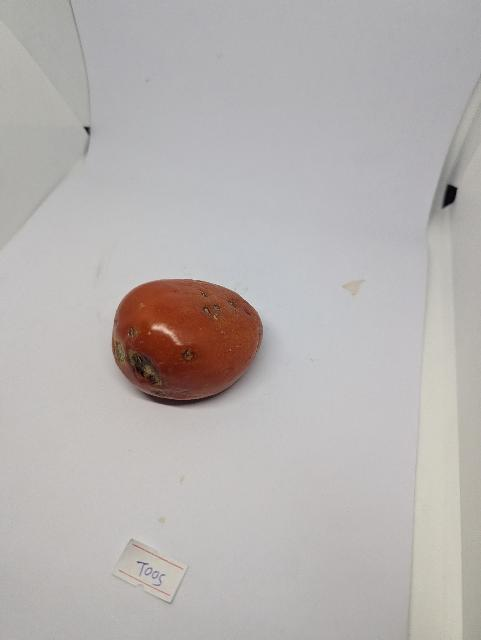defect: (103, 275, 266, 405)
